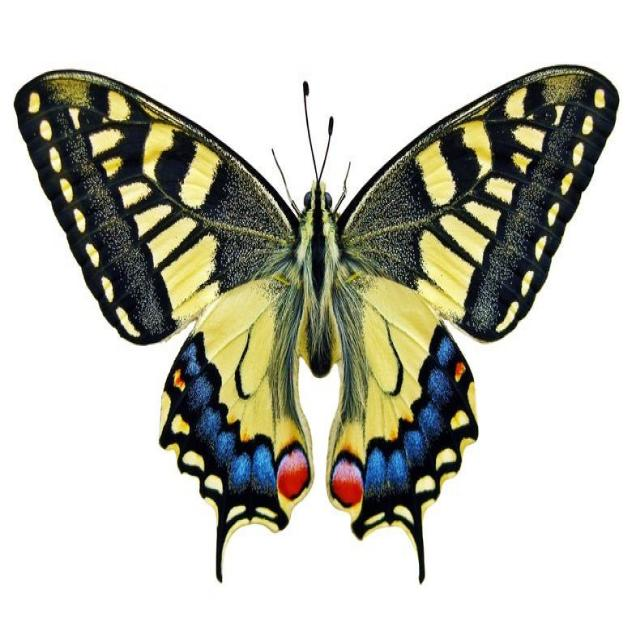butterfly: (75, 97, 494, 508)
